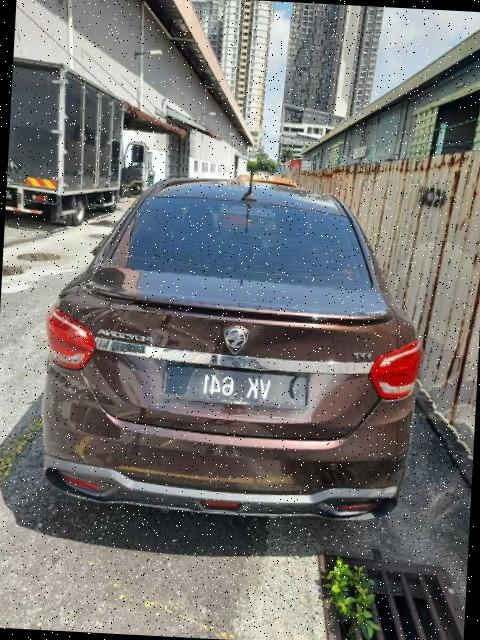License_Plate: (161, 362, 310, 413)
car: (36, 164, 433, 527)
